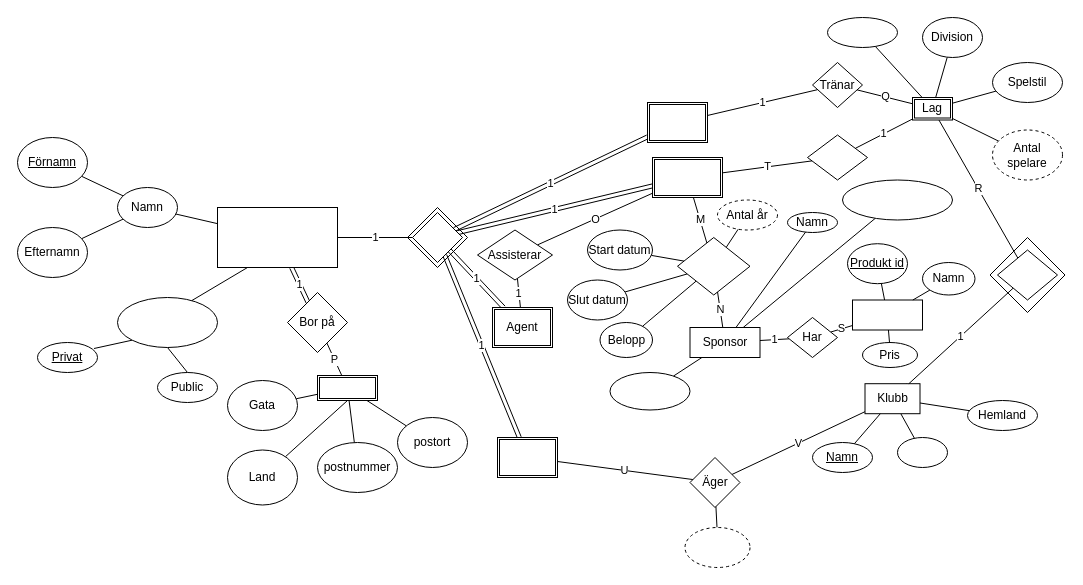
Some shapes in this 1083 by 585 pixel diagram are drawn without their labels. The shapes that lost their labels are listed below. From the top down, each one's centre as x and y in pixels, then its label:
pixel 862 32: Lagnamn
pixel 677 122: Tränare
pixel 687 177: Spelare
pixel 837 157: Spelar i
pixel 897 199: branchtillhörighet
pixel 277 237: Person
pixel 437 237: Är
pixel 713 265: Sponsrar
pixel 1027 274: Del av
pixel 167 322: Telefonnummer
pixel 887 314: Produkt
pixel 347 387: Address
pixel 649 391: Företagskod
pixel 527 457: Ägare
pixel 922 452: Startår
pixel 717 547: Ägarandel
